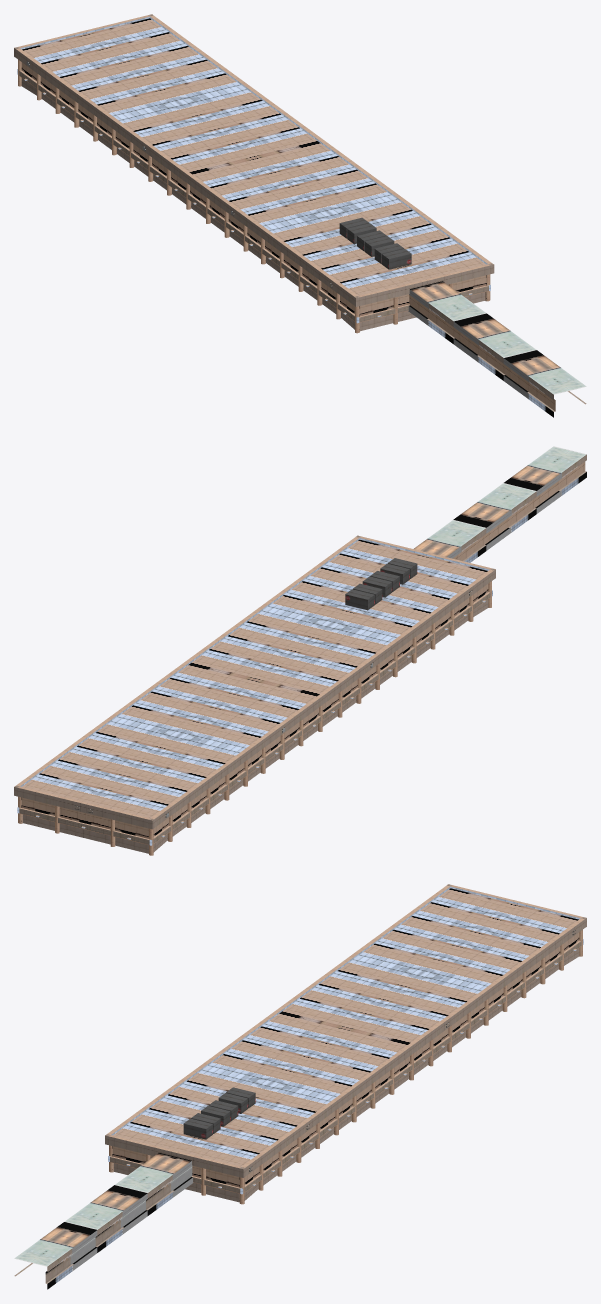
File: Terminal3a.exact.glb
The picture shows the model from 3 angles, top to bottom: view 1: azimuth 30°, elevation 25°; view 2: azimuth 150°, elevation 25°; view 3: azimuth 330°, elevation 25°; orthographic projection.
Parts seen in each view (by area): view 1: Terminal3a; view 2: Terminal3a; view 3: Terminal3a.
Part boxes in pixels (x1,y1,x2,y2): Terminal3a: [14, 14, 586, 417]; Terminal3a: [14, 446, 586, 855]; Terminal3a: [14, 884, 586, 1289].
Bounding box in the file's own units: 41.42 × 13.5 × 251.
1 material, 1 textured.
